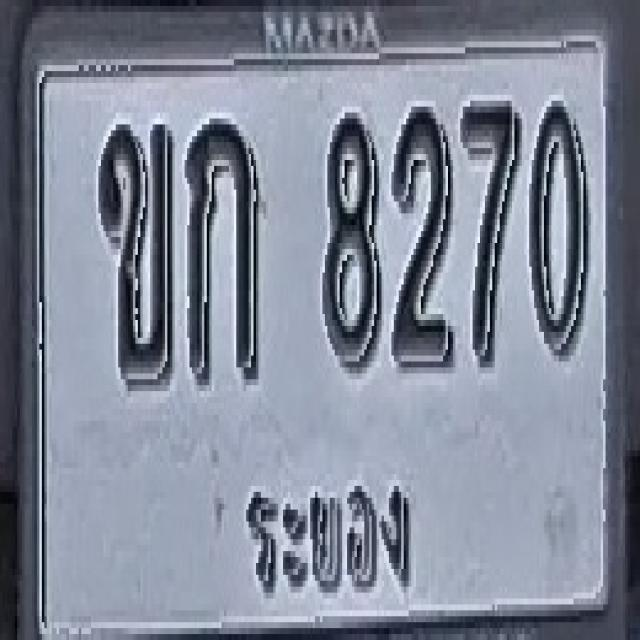-: (100, 116, 174, 382), (186, 116, 260, 382)
0: (530, 95, 588, 355)
2: (391, 104, 453, 364)
7: (460, 95, 520, 367)
8: (324, 110, 380, 370)
RYG: (240, 453, 418, 604)
